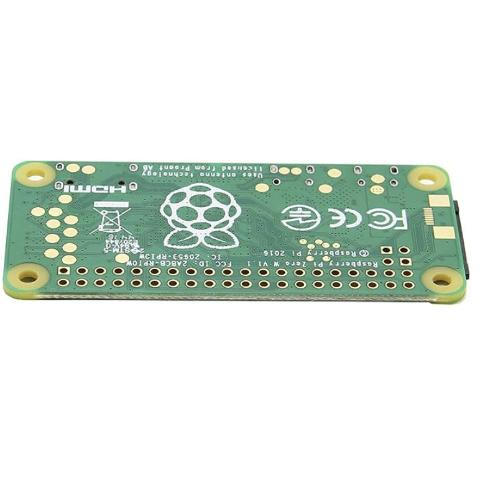Raspberry-Pi-Zero-W: (2, 160, 469, 306)
